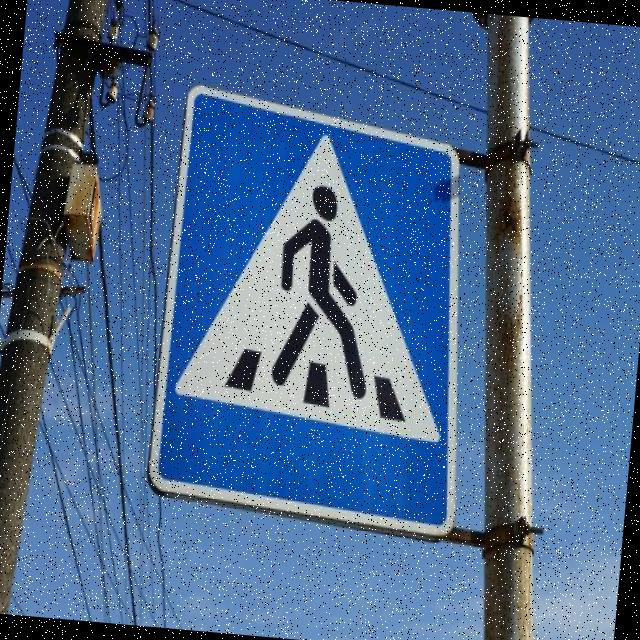crosswalk: (137, 74, 496, 558)
